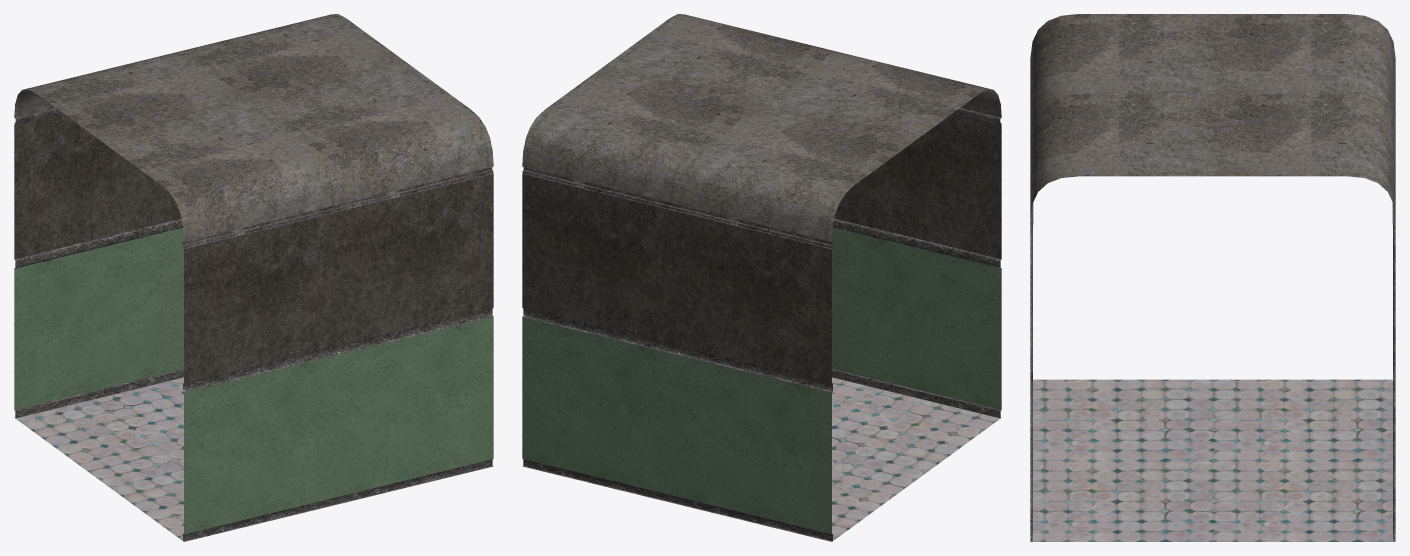
The model's file is CorridorBlockStraight.FBX.
3 views of the same model, side by side, from view 1: azimuth 30°, elevation 25°; view 2: azimuth 150°, elevation 25°; view 3: azimuth 270°, elevation 25° (orthographic). The views are drawn at different scales.
Parts seen in each view (by area): view 1: Straight; view 2: Straight; view 3: Straight.
Boxes of the visible parts, bbox=[...] form: Straight: bbox=[14, 14, 493, 541]; Straight: bbox=[522, 14, 1001, 541]; Straight: bbox=[1030, 14, 1395, 541].
Bounding box in the file's own units: 78.74 × 82.67 × 74.8.
